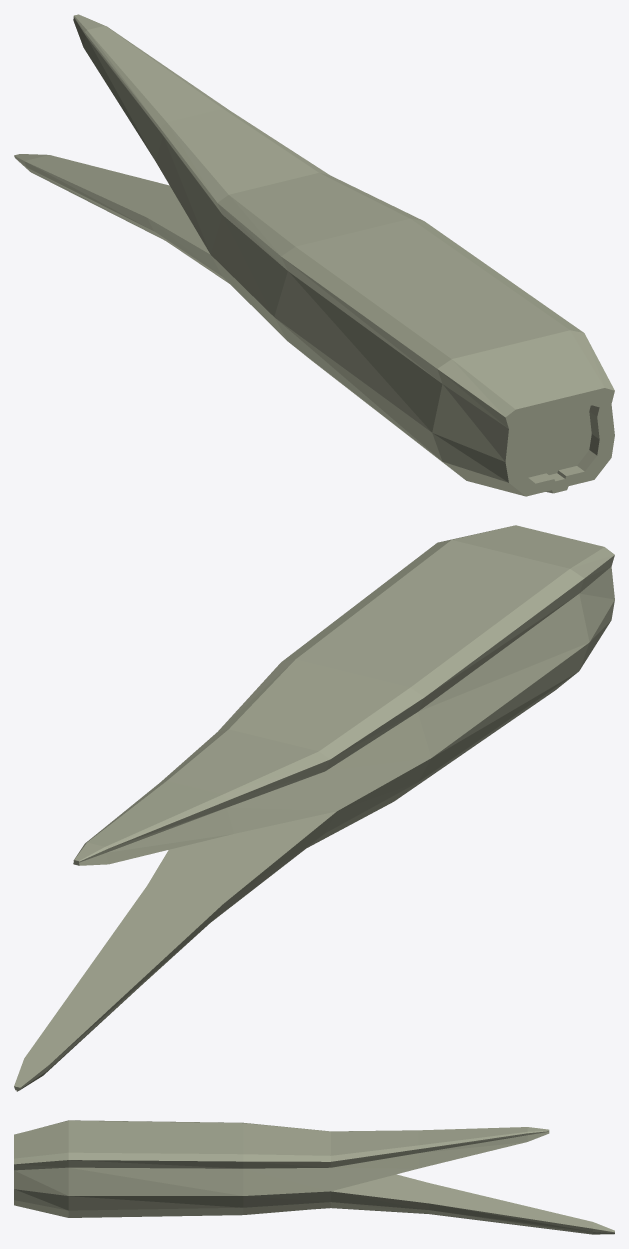
Rendered from forked_prow.glb.
The picture shows the model from 3 angles, top to bottom: view 1: azimuth 30°, elevation 25°; view 2: azimuth 150°, elevation 25°; view 3: azimuth 270°, elevation 25°; orthographic projection. The views are drawn at different scales.
Visible parts, largest first — view 1: hull; view 2: hull; view 3: hull.
Part boxes in pixels (<box>): hull: <box>14,14,614,496</box>; hull: <box>14,525,614,1091</box>; hull: <box>14,1120,614,1234</box>.
Bounding box in the file's own units: 18.4 × 21.18 × 110.
